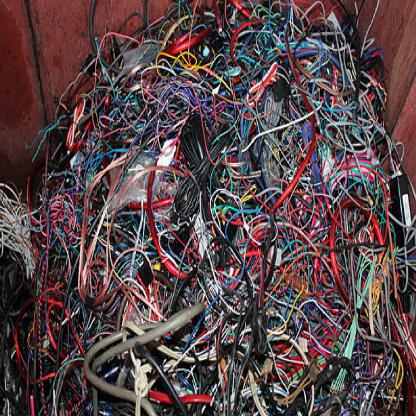wires: (2, 1, 415, 413)
